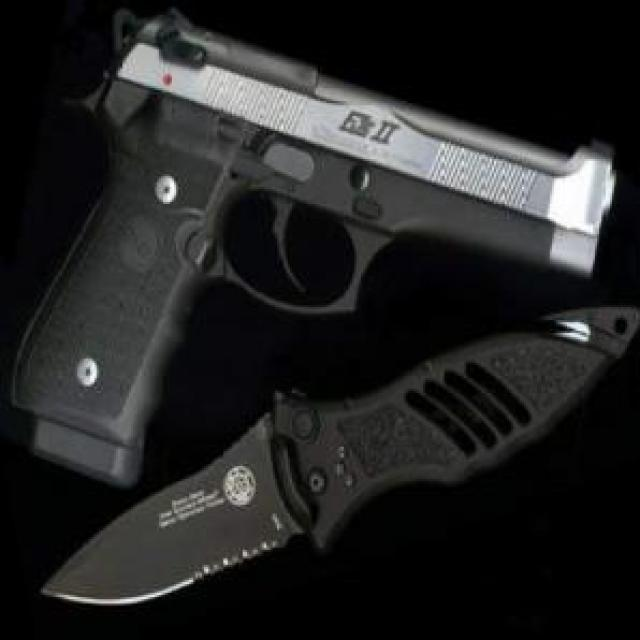pistol: (2, 6, 625, 488)
